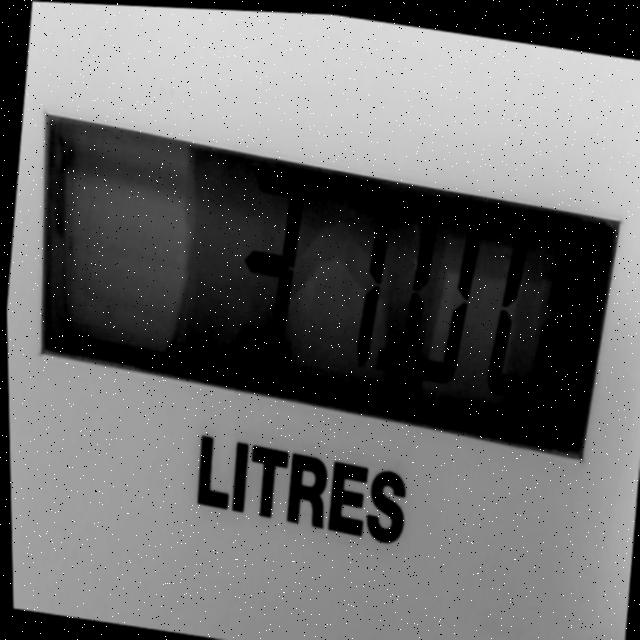.: (380, 343, 392, 368)
0: (481, 204, 574, 408), (393, 190, 485, 391)
3: (235, 160, 305, 351)
7: (328, 177, 396, 368)
